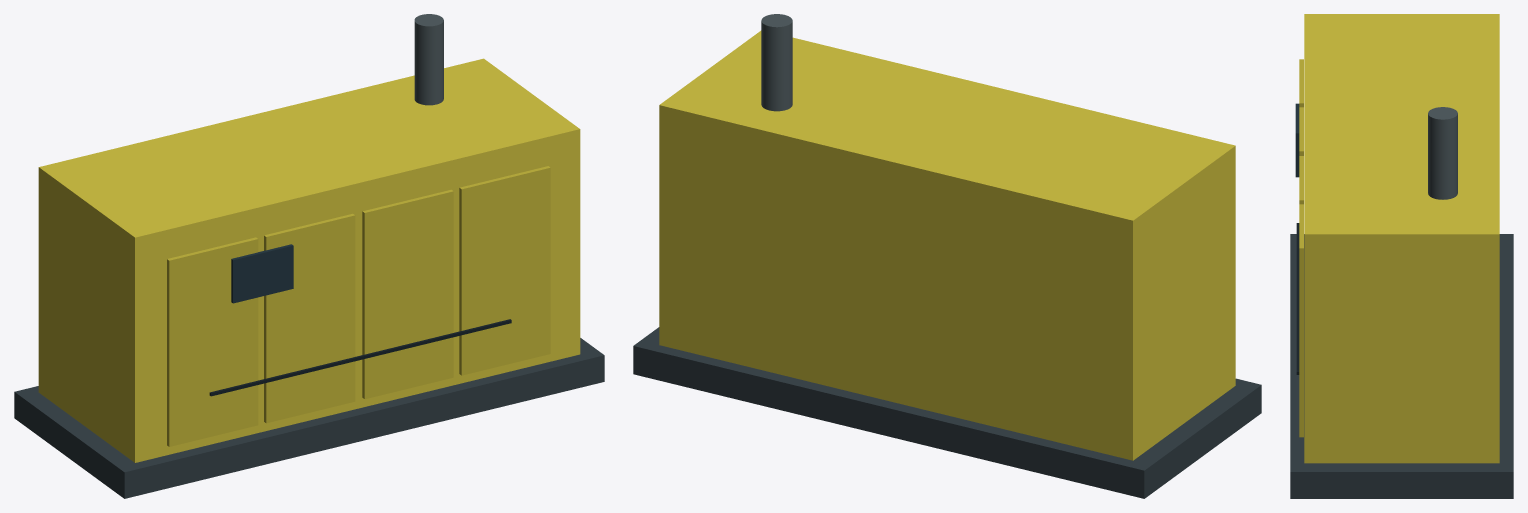
The model's file is stlib-ele-standby-generator-v1.glb.
3 renders of one model, left to right at view 1: azimuth 30°, elevation 25°; view 2: azimuth 150°, elevation 25°; view 3: azimuth 270°, elevation 25°, orthographic. The views are drawn at different scales.
Visible parts, largest first — view 1: Acoustic enclosure, Service door (×4), Skid base, Controller, Exhaust outlet; view 2: Acoustic enclosure, Skid base, Exhaust outlet; view 3: Acoustic enclosure, Skid base, Exhaust outlet, Service door, Controller.
Part boxes in pixels (<box>): Acoustic enclosure: <box>38,58,580,462</box>; Service door (×4): <box>167,166,550,446</box>; Skid base: <box>14,338,604,498</box>; Controller: <box>231,244,293,303</box>; Exhaust outlet: <box>414,14,443,105</box>; Acoustic enclosure: <box>659,30,1235,460</box>; Skid base: <box>633,327,1261,498</box>; Exhaust outlet: <box>761,14,792,111</box>; Acoustic enclosure: <box>1304,14,1499,463</box>; Skid base: <box>1290,234,1513,498</box>; Exhaust outlet: <box>1428,107,1457,199</box>; Service door: <box>1299,204,1303,437</box>; Controller: <box>1295,103,1299,177</box>.
Bounding box in the file's own units: 3.02 × 1.99 × 1.2.
